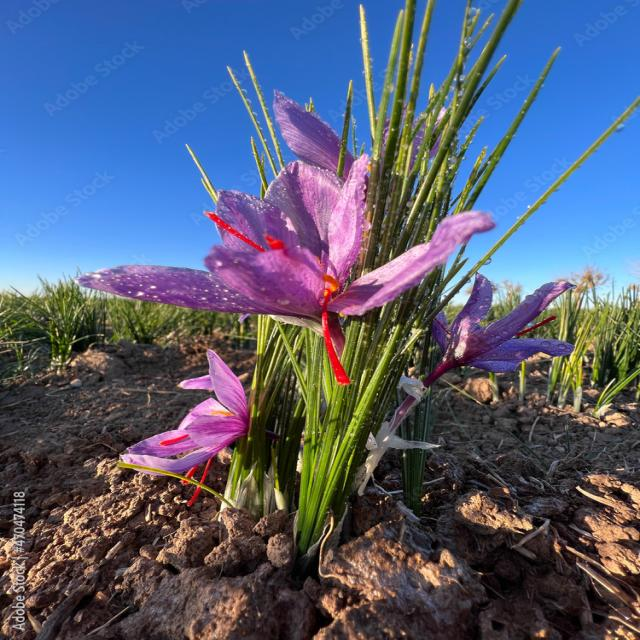saffron open: (78, 154, 493, 382), (423, 275, 573, 386), (122, 350, 250, 474)
